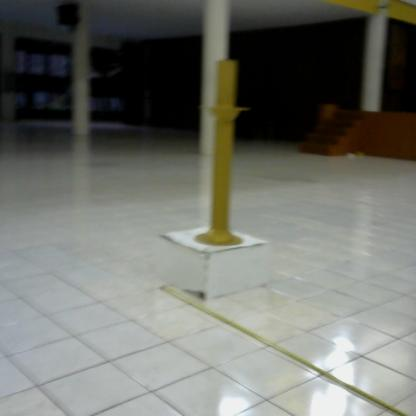pole: (191, 54, 259, 251)
